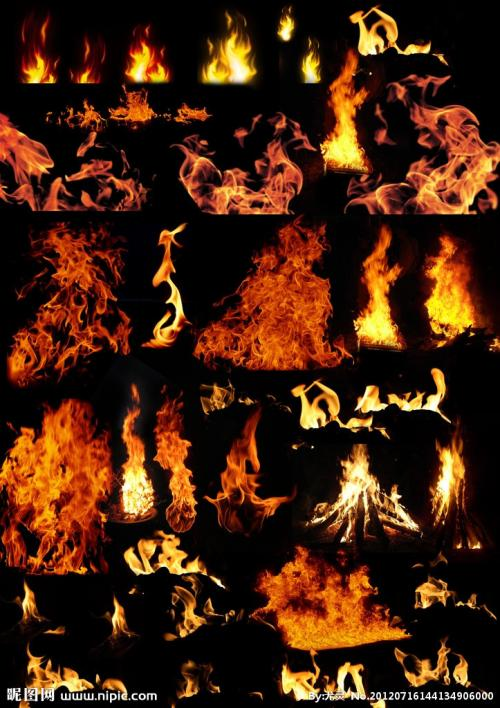fire: (240, 247, 338, 377), (20, 411, 95, 564), (415, 94, 500, 212), (278, 565, 396, 648), (48, 242, 130, 354), (8, 134, 135, 206), (427, 231, 481, 325), (367, 242, 408, 336), (333, 64, 363, 165), (204, 31, 253, 84), (118, 37, 168, 81)
